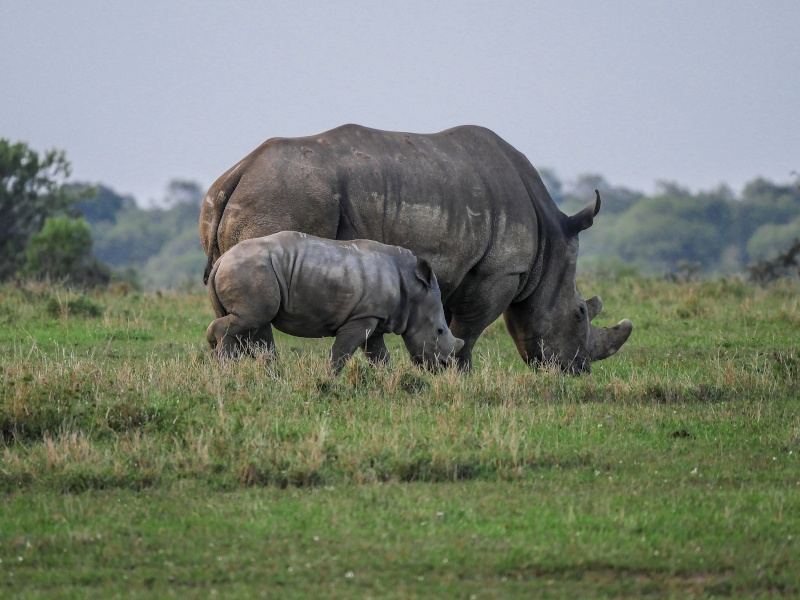rhino: (416, 248, 800, 517), (333, 300, 598, 446)
